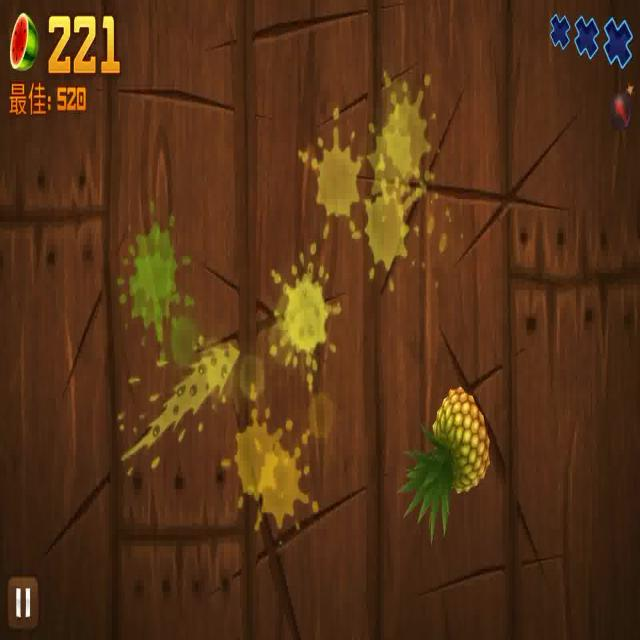fruit: (397, 368, 496, 540)
